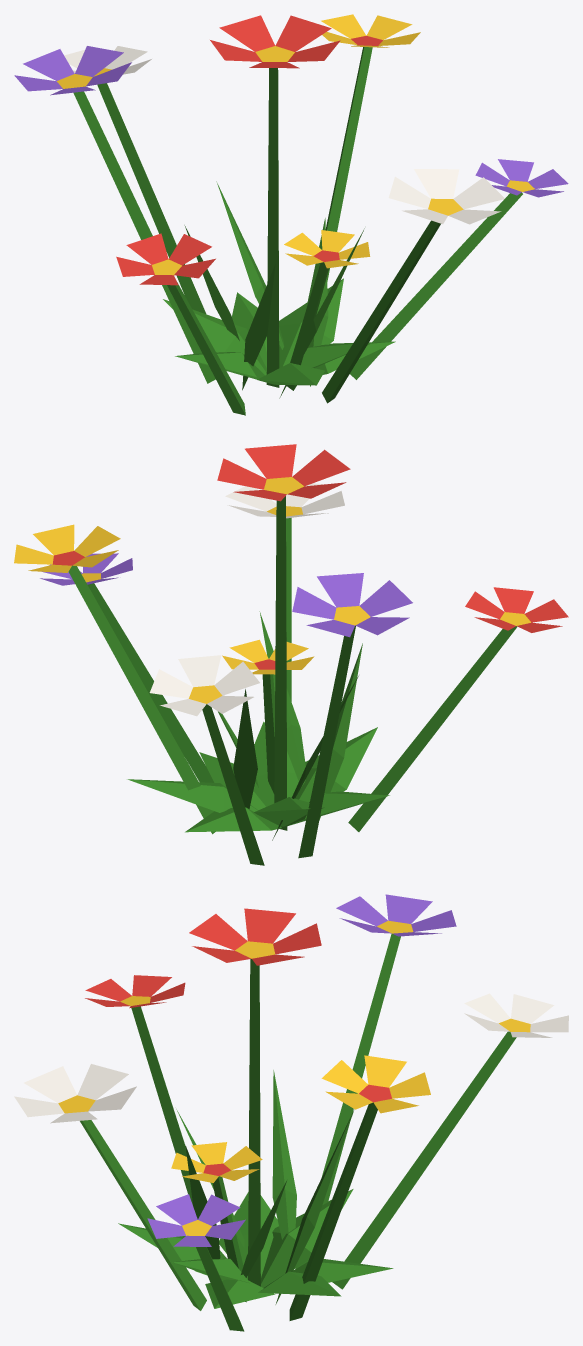
Rendered from flower_patch.glb.
3 renders of one model, top to bottom at view 1: azimuth 30°, elevation 25°; view 2: azimuth 150°, elevation 25°; view 3: azimuth 270°, elevation 25°, orthographic. The views are drawn at different scales.
Parts seen in each view (by area): view 1: flower_patch; view 2: flower_patch; view 3: flower_patch.
Part boxes in pixels (left/top/right/bottom): flower_patch: left=14, top=14, right=568, bottom=415; flower_patch: left=14, top=444, right=568, bottom=865; flower_patch: left=14, top=894, right=568, bottom=1331.
Bounding box in the file's own units: 0.4509 × 0.3178 × 0.446.
